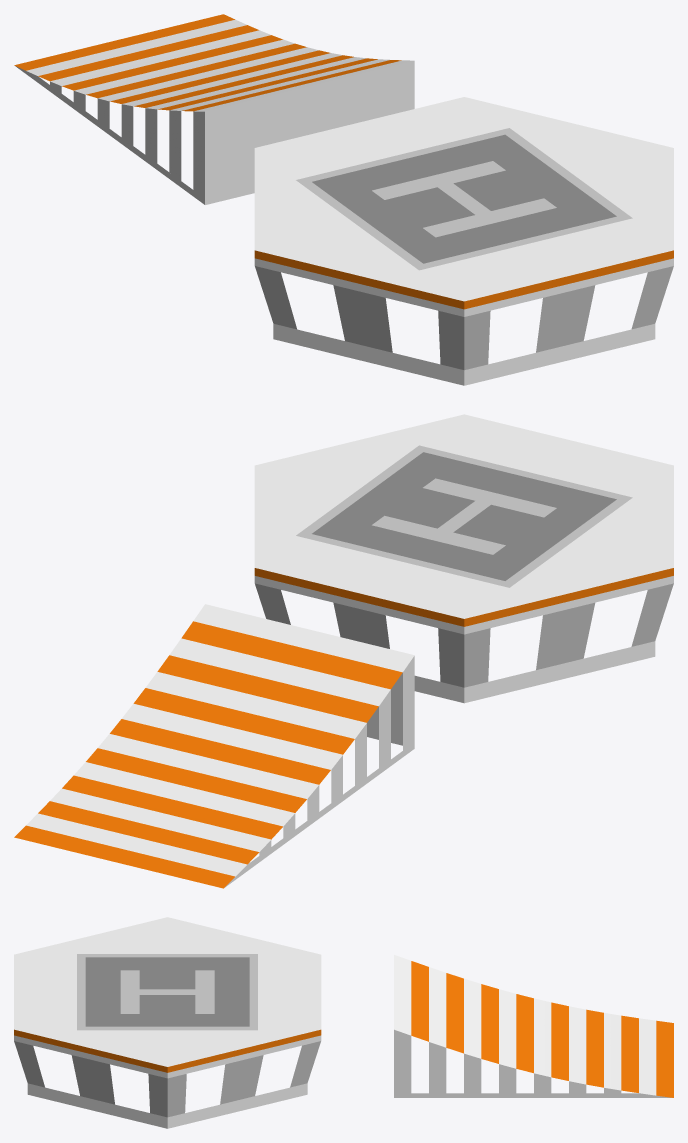
Rendered from HeliPadB.fbx.
3 renders of one model, top to bottom at view 1: azimuth 30°, elevation 25°; view 2: azimuth 150°, elevation 25°; view 3: azimuth 270°, elevation 25°, orthographic. The views are drawn at different scales.
Parts seen in each view (by area): view 1: HeliPadB, HeliPadBRamp; view 2: HeliPadB, HeliPadBRamp; view 3: HeliPadB, HeliPadBRamp.
Part boxes in pixels (x1,y1,x2,y2): HeliPadB: [254, 97, 673, 385]; HeliPadBRamp: [14, 14, 414, 204]; HeliPadB: [254, 414, 673, 703]; HeliPadBRamp: [14, 604, 414, 888]; HeliPadB: [14, 917, 321, 1128]; HeliPadBRamp: [394, 955, 673, 1097].
Bounding box in the file's own units: 1139 × 243 × 2119.
